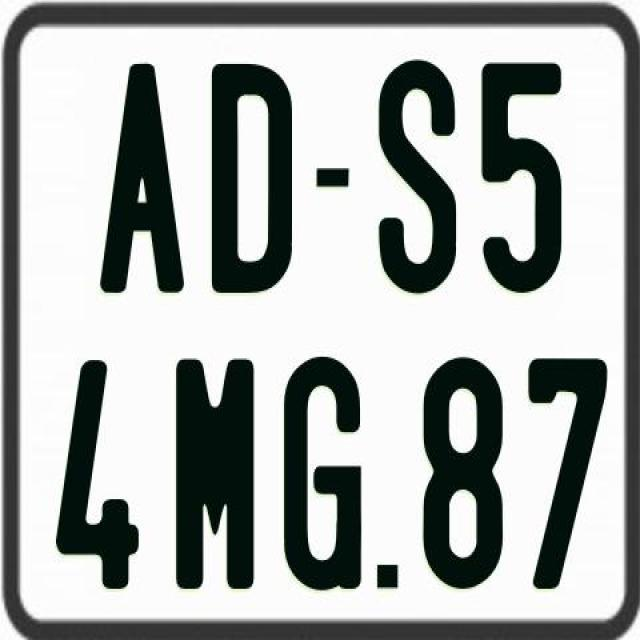4: (56, 358, 145, 594)
5: (480, 64, 560, 296)
7: (528, 354, 610, 594)
8: (422, 354, 509, 596)
A: (100, 61, 188, 292)
D: (212, 61, 295, 300)
G: (284, 352, 367, 592)
M: (173, 358, 254, 589)
S: (376, 58, 460, 294)
